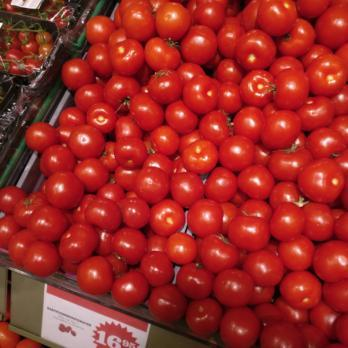Tomato: (113, 4, 348, 315)
